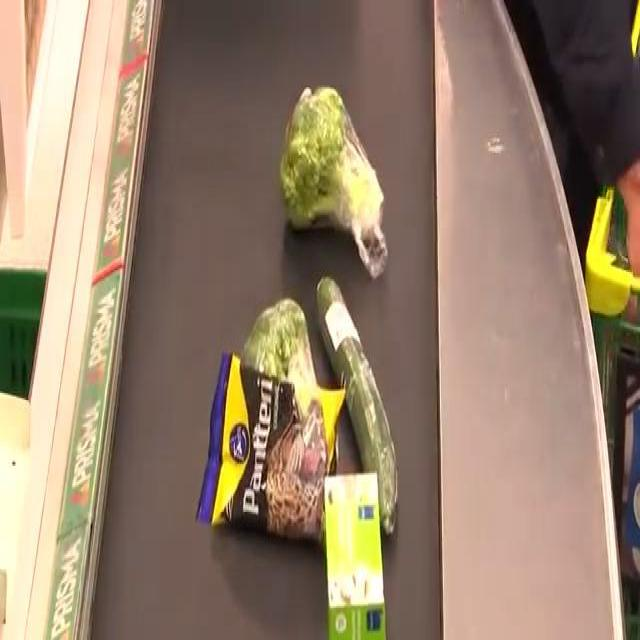food-box: (213, 376, 337, 536)
utility-box: (322, 473, 386, 640)
vegetable: (322, 276, 402, 529), (286, 95, 394, 269), (255, 297, 320, 387)
